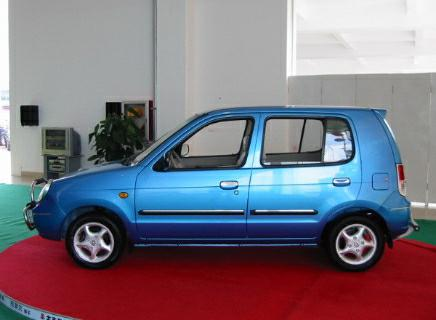比亚迪-福莱尔: (25, 102, 419, 271)
